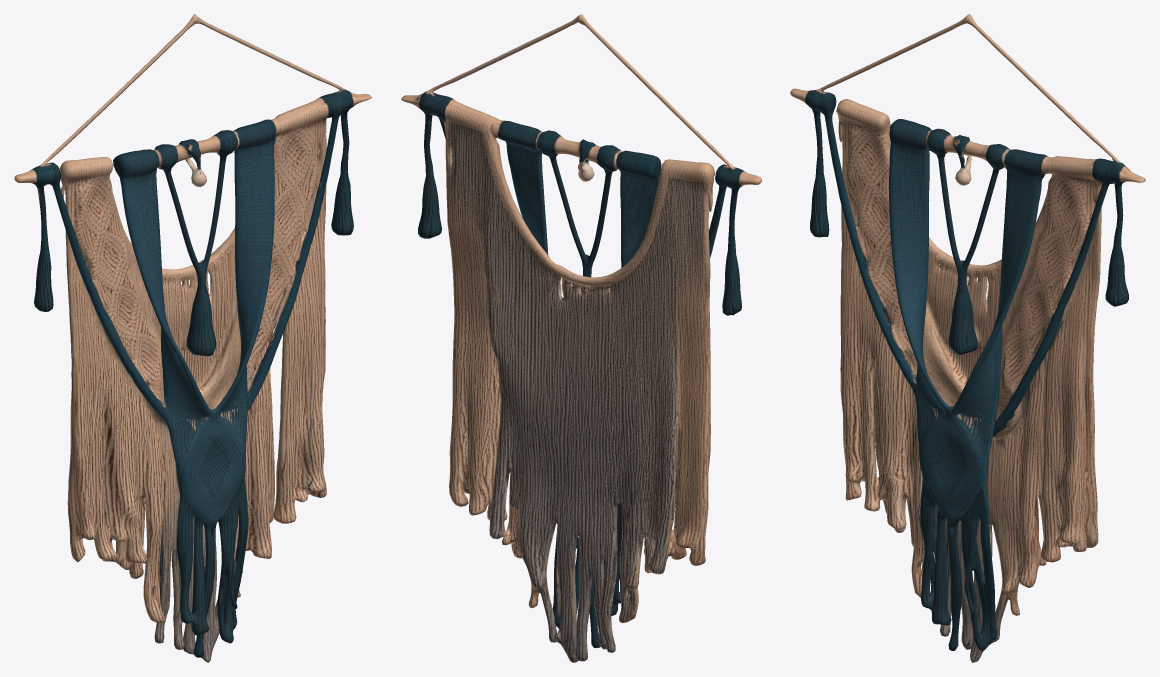
The model's file is wall-hanging.glb.
3 views of the same model, side by side, from view 1: azimuth 30°, elevation 25°; view 2: azimuth 150°, elevation 25°; view 3: azimuth 330°, elevation 25° (orthographic).
Visible parts, largest first — view 1: tripo_node_831eb64a-39a3-41e2-99b9-22d6850d2e3b; view 2: tripo_node_831eb64a-39a3-41e2-99b9-22d6850d2e3b; view 3: tripo_node_831eb64a-39a3-41e2-99b9-22d6850d2e3b.
Boxes of the visible parts, x1,y1,x2,y2 form: tripo_node_831eb64a-39a3-41e2-99b9-22d6850d2e3b: (14,14,372,662); tripo_node_831eb64a-39a3-41e2-99b9-22d6850d2e3b: (401,14,761,662); tripo_node_831eb64a-39a3-41e2-99b9-22d6850d2e3b: (790,14,1145,662).
Bounding box in the file's own units: 0.5629 × 0.9786 × 0.0935.
Materials: 1 (1 with a texture image).
